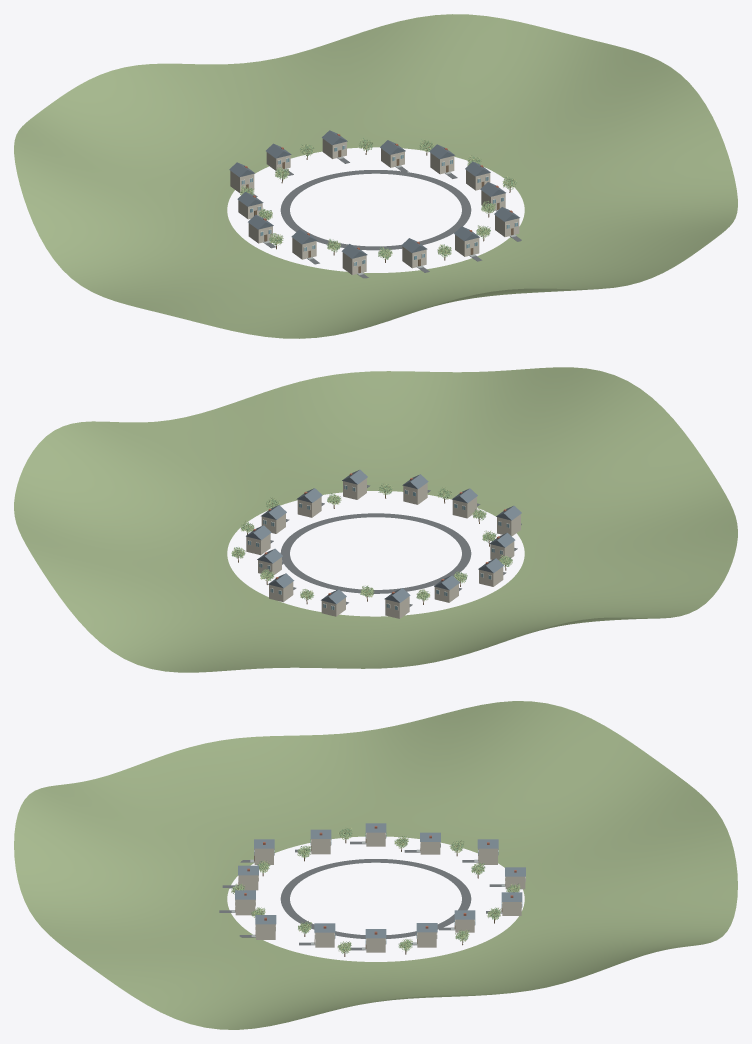
File: backdrop-suburban.glb
3 views of the same model, one above another, from view 1: azimuth 30°, elevation 25°; view 2: azimuth 150°, elevation 25°; view 3: azimuth 270°, elevation 25° (orthographic).
Visible parts, largest first — view 1: grass, plaster, roof, road, leaves0, leaves1, leaves2; view 2: grass, plaster, roof, road, leaves1, leaves0, leaves2; view 3: grass, plaster, roof, road, leaves0, leaves2, leaves1.
Boxes of the visible parts, <box> form: grass: <box>14,14,737,338</box>; plaster: <box>230,139,519,274</box>; roof: <box>229,130,519,258</box>; road: <box>253,158,521,278</box>; leaves0: <box>240,138,516,259</box>; leaves1: <box>240,139,516,259</box>; leaves2: <box>240,139,516,259</box>; grass: <box>14,367,737,672</box>; plaster: <box>246,478,520,618</box>; roof: <box>246,469,521,603</box>; road: <box>270,485,521,606</box>; leaves1: <box>231,483,512,600</box>; leaves0: <box>232,483,512,600</box>; leaves2: <box>231,483,512,601</box>; grass: <box>14,701,737,1029</box>; plaster: <box>235,832,525,952</box>; roof: <box>235,823,525,938</box>; road: <box>219,841,501,950</box>; leaves0: <box>232,827,520,953</box>; leaves2: <box>232,827,519,952</box>; leaves1: <box>231,828,520,953</box>.
Size of the model in its own units: 156 by 15.08 by 156.
